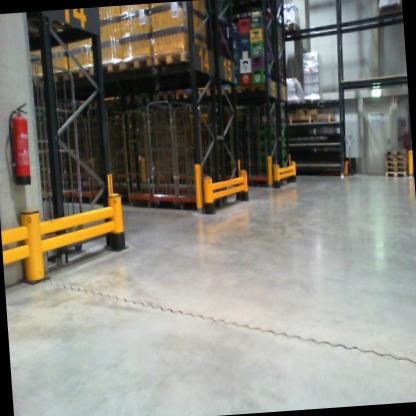pallet: (151, 47, 212, 79), (116, 52, 157, 79), (286, 110, 337, 128), (36, 65, 71, 87), (125, 90, 164, 109), (239, 78, 271, 96), (89, 59, 122, 76), (194, 83, 218, 104), (217, 81, 241, 102), (69, 61, 90, 83), (156, 90, 178, 104), (301, 95, 322, 107), (383, 146, 408, 156), (383, 164, 408, 174), (384, 169, 408, 179), (382, 159, 407, 168), (176, 89, 193, 102), (383, 153, 406, 162), (283, 98, 301, 109)
pallet_truck: (337, 126, 359, 185)
